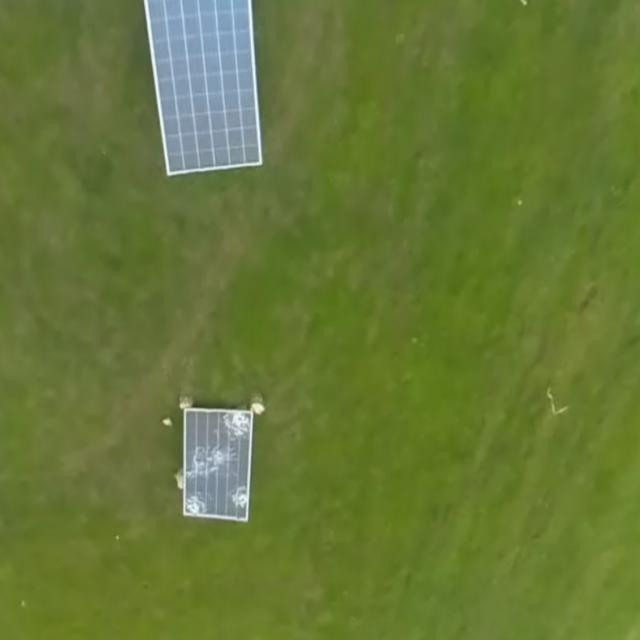faulty: (185, 406, 251, 522)
no faulty: (146, 2, 264, 176)
